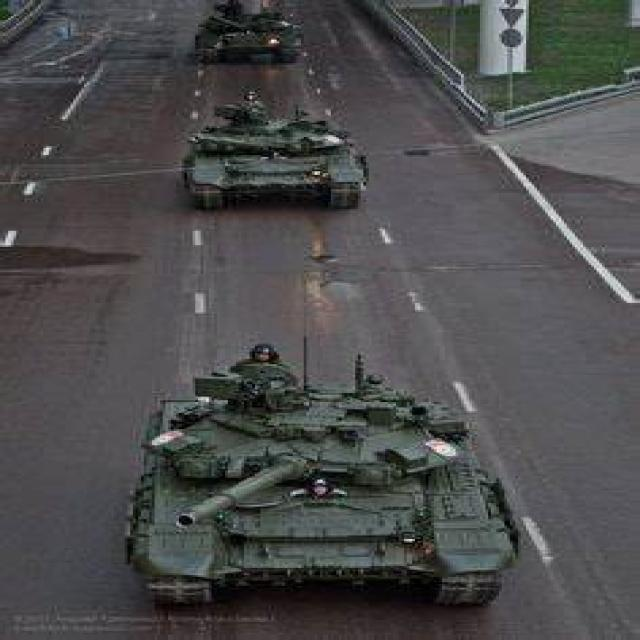tank: (128, 346, 516, 606), (179, 102, 369, 210)
